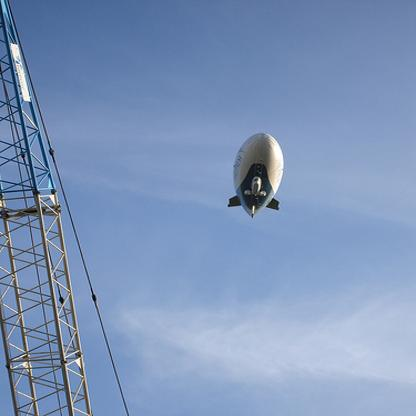Airship: (227, 128, 287, 220)
